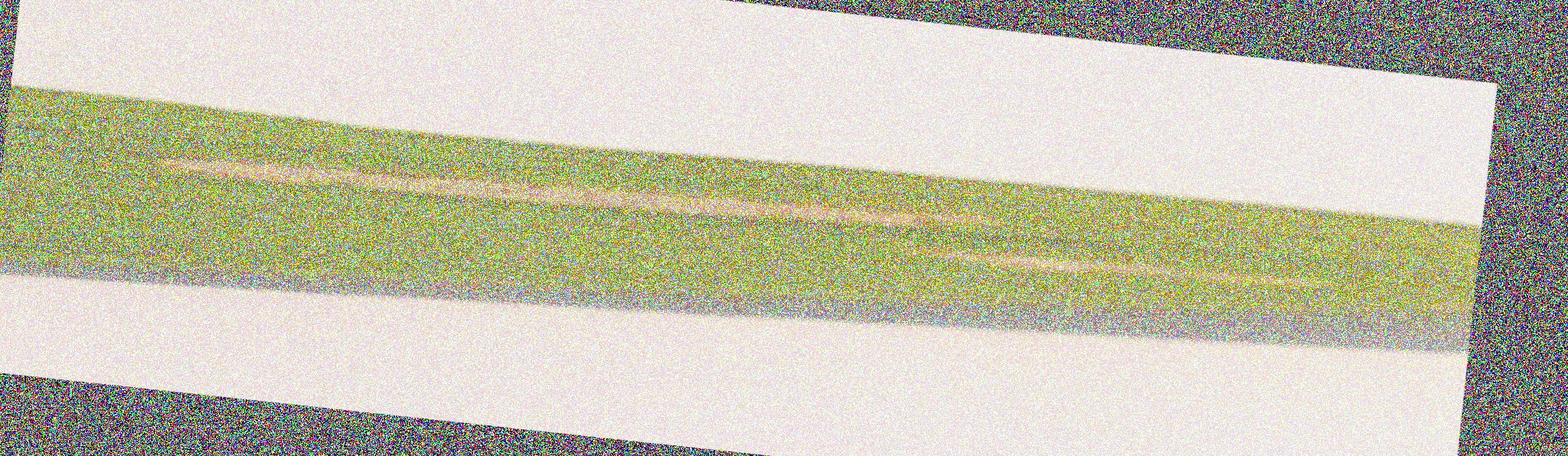Leaf_Blast: (118, 156, 1014, 240), (846, 237, 1348, 313)
